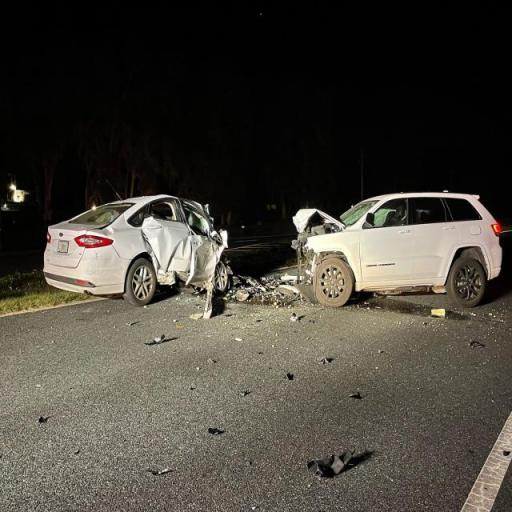小汽车: (298, 190, 501, 314), (42, 197, 228, 304)
